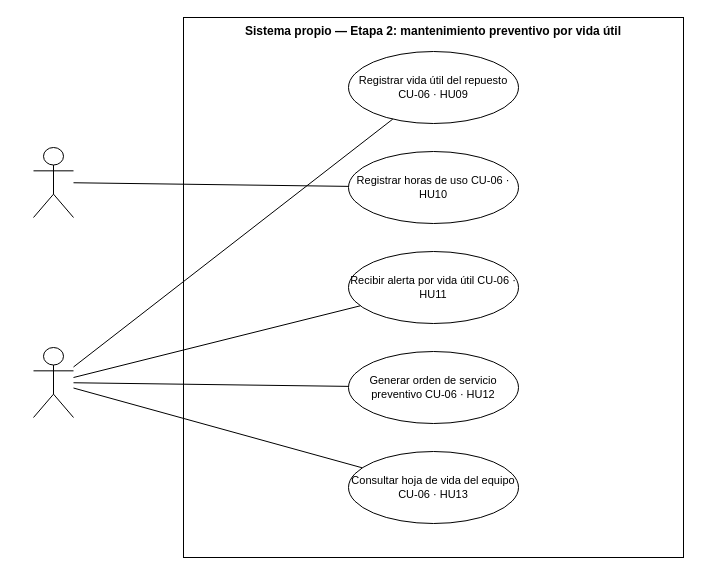
Some shapes in this 701 by 575 pixel diagram are drawn without their labels. Here are the shapes that lost their labels. From the top down, the box of each, then its label:
(32, 146, 74, 218): Técnico de Mantenimiento
(32, 346, 74, 418): Supervisor de Mantenimiento
